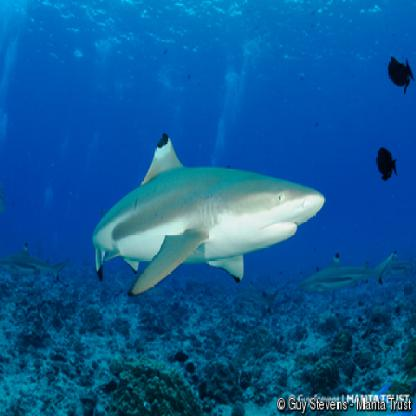Shark -Selachimorpha-: (91, 131, 330, 295), (299, 250, 397, 294)
